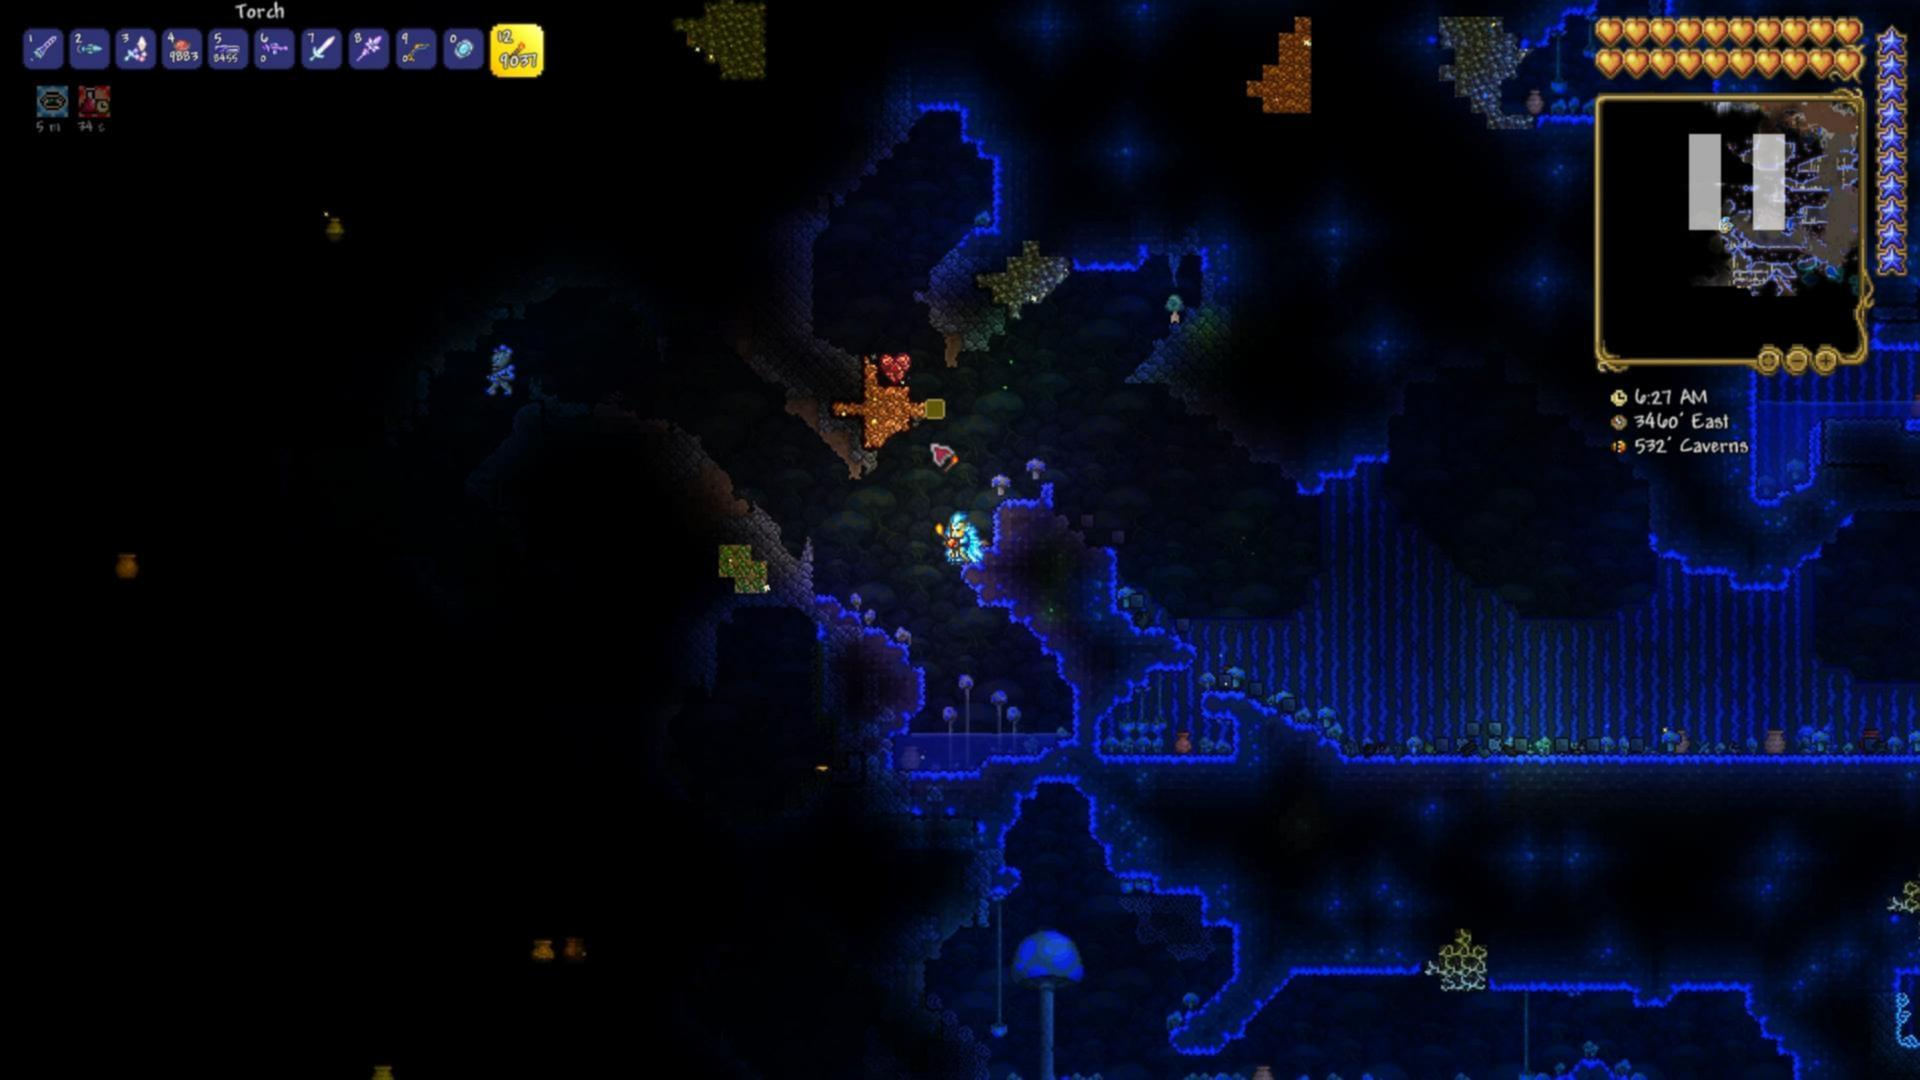lifeC: (880, 352, 911, 385)
mirror: (450, 36, 477, 65)
pot: (109, 545, 138, 579), (1763, 724, 1788, 757), (1527, 87, 1547, 116), (1175, 725, 1192, 754)
